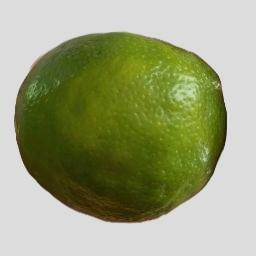Unripe: (15, 33, 230, 219)
